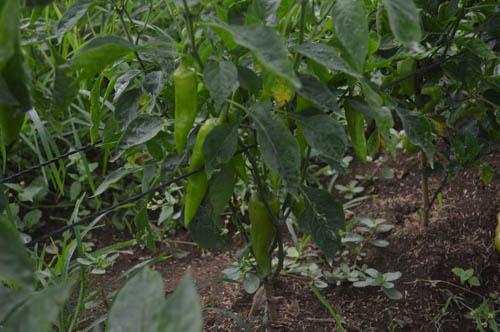ChiliPepper: (183, 120, 220, 221), (248, 200, 278, 272), (171, 72, 199, 148), (342, 99, 370, 162)
